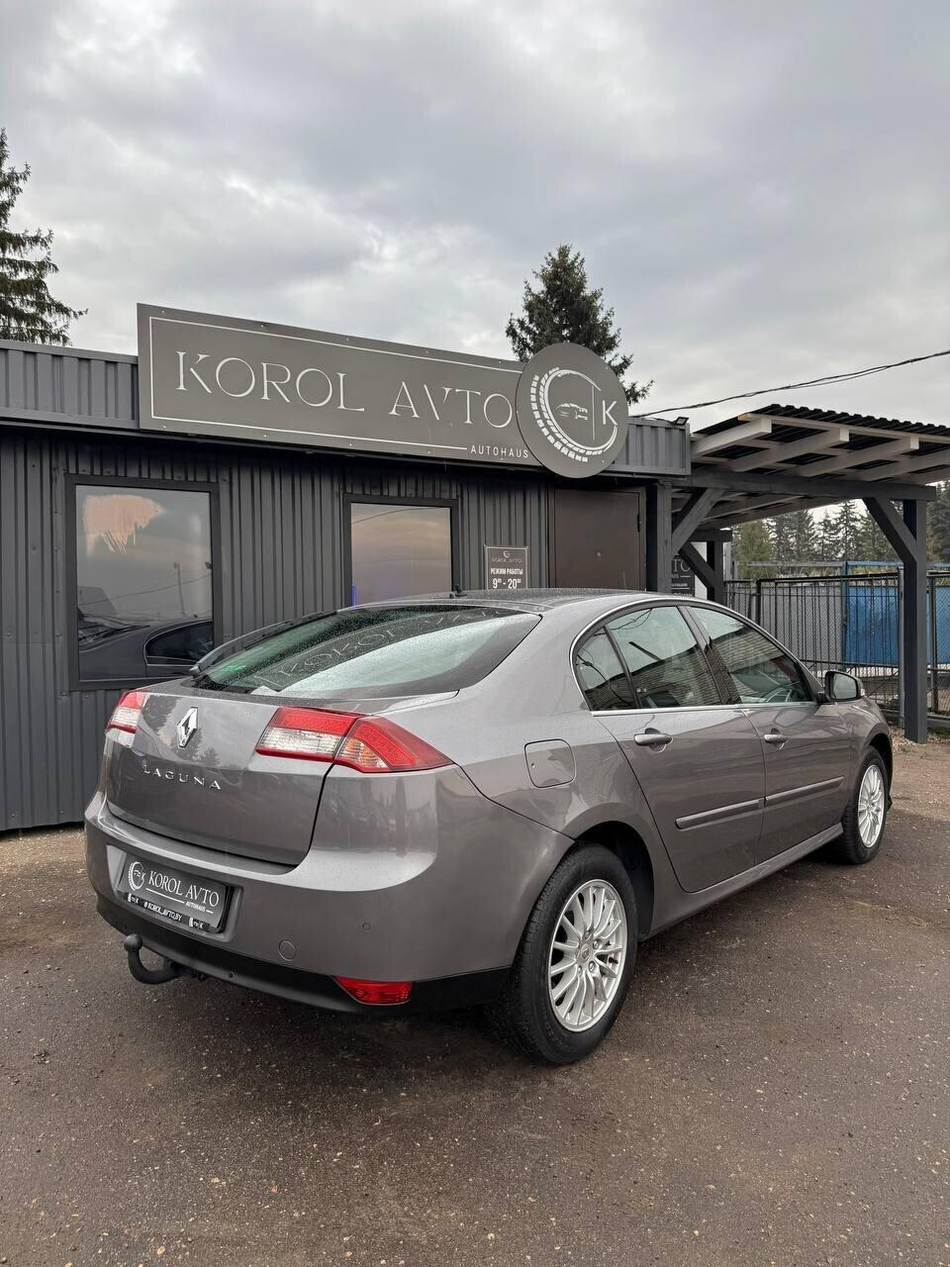Laguna_2010-2015: (89, 577, 902, 1062)
